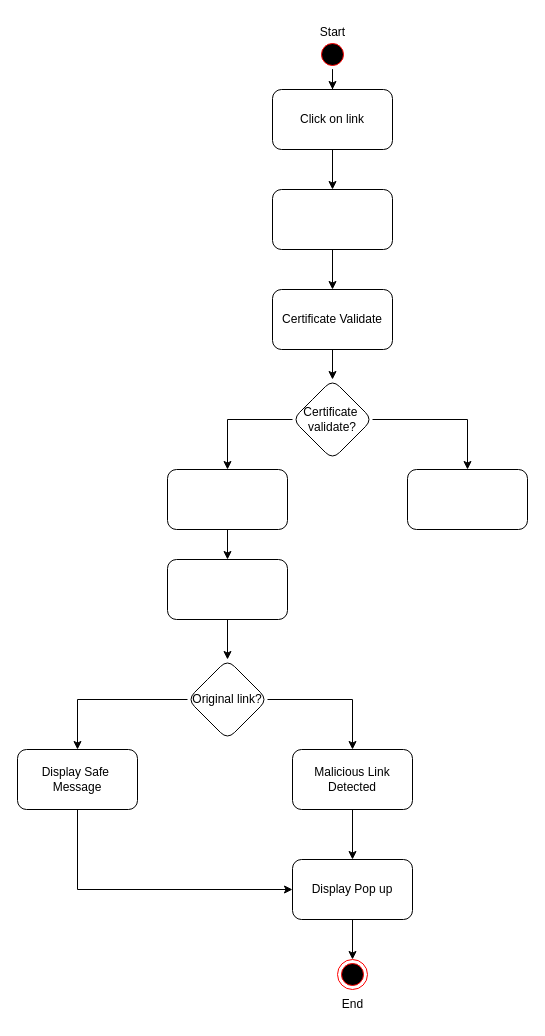
The diagram is 545 pixels wide and 1036 high, and some of its shapes have lost their labels. Each missing label, with the centre of its shape:
"Certificate Valid" goes at point (227, 499).
"Make API call" goes at point (227, 589).
"Notify: Invalid Certificate" goes at point (467, 499).
"Retrieve URL Details" goes at point (332, 219).
